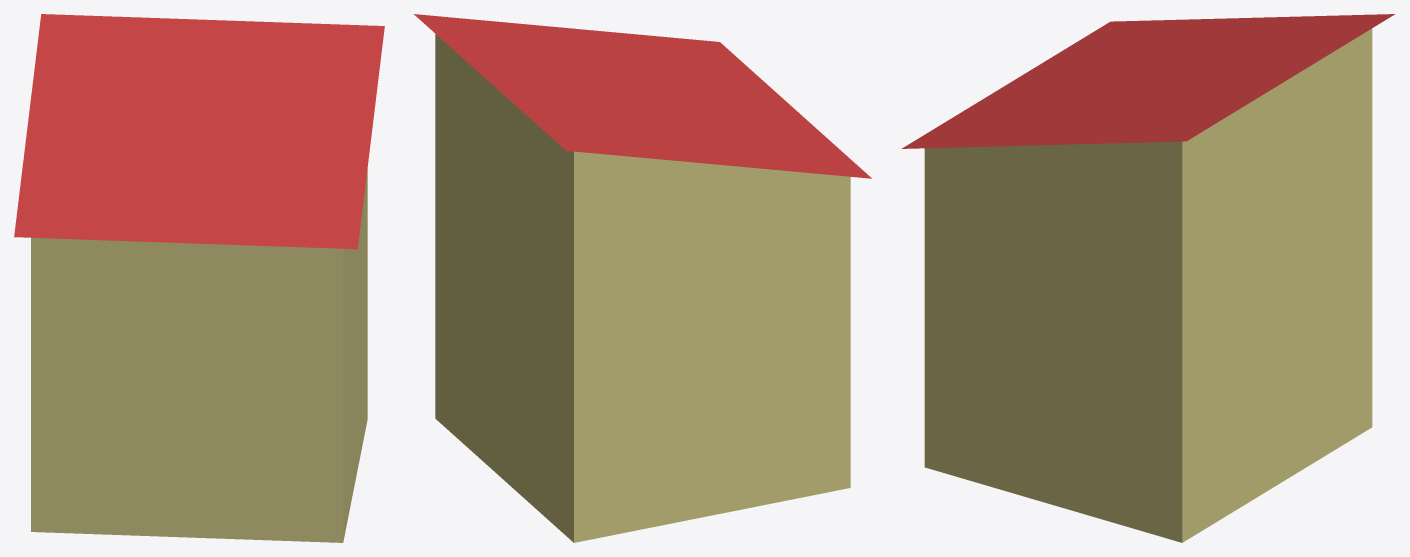
3 views of the same model, side by side, from view 1: azimuth 30°, elevation 25°; view 2: azimuth 150°, elevation 25°; view 3: azimuth 270°, elevation 25° (orthographic). The views are drawn at different scales.
Bounding box in the file's own units: 7.41 × 7.33 × 6.73.
